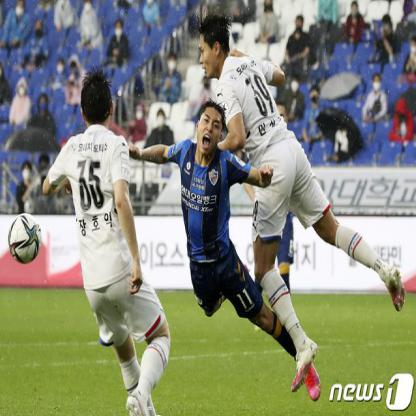Fall_Down: (124, 101, 320, 404)
